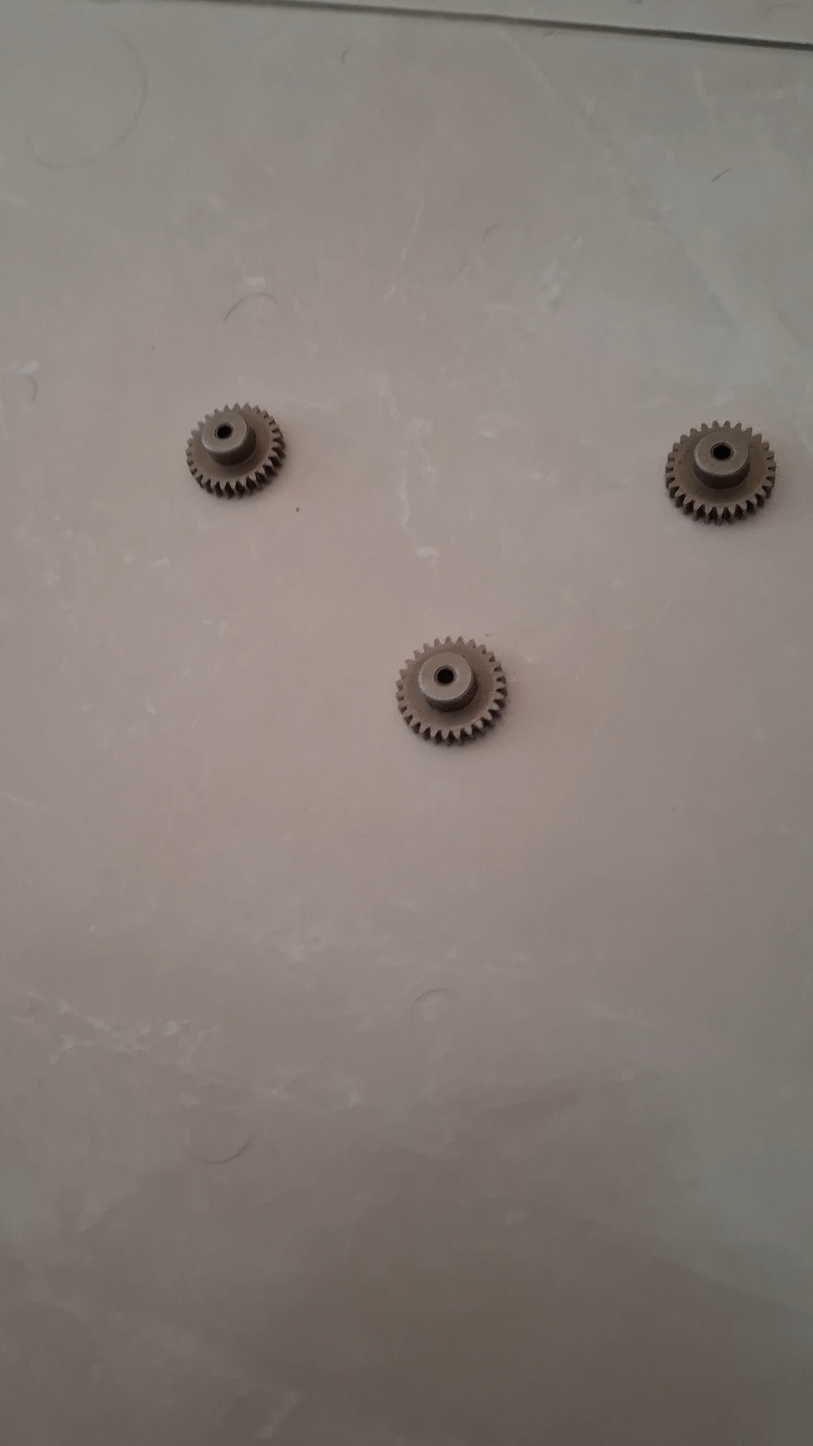spur gear: (394, 623, 501, 724), (636, 419, 742, 511), (168, 396, 266, 487)
